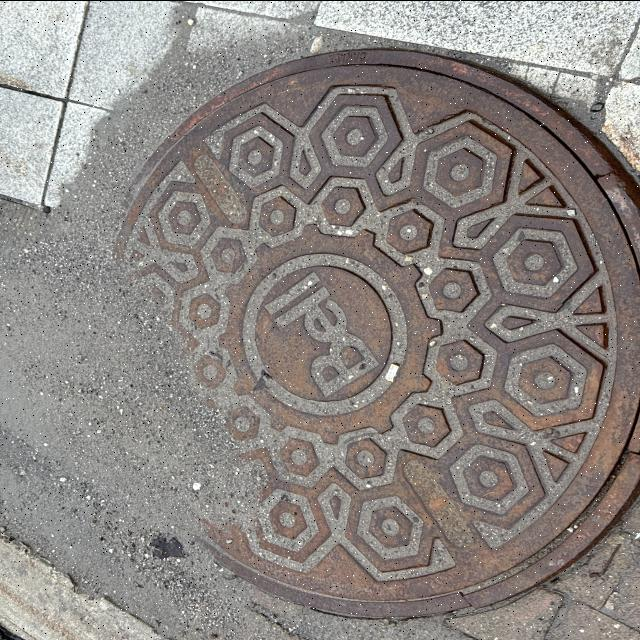Manhole: (117, 48, 630, 614)
